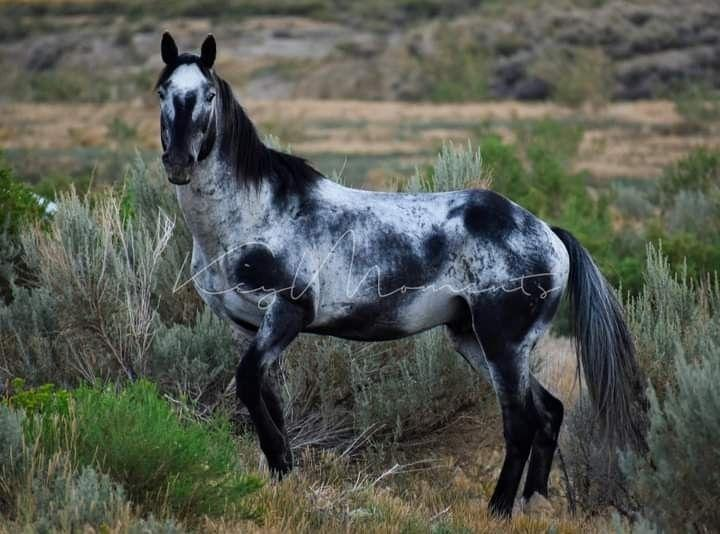horse: (152, 30, 653, 522)
